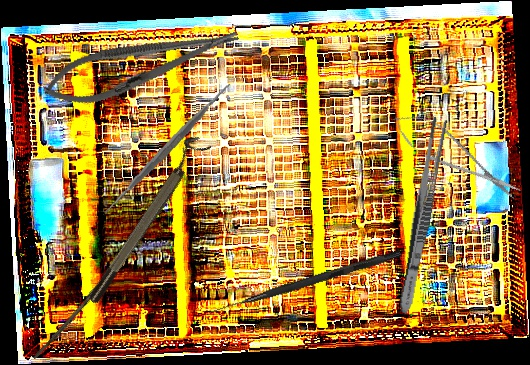Dressing Forceps: (394, 115, 450, 316)
Fixation Ring: (78, 131, 212, 307)
Hook Surgical: (208, 247, 402, 319)
Micro Scissor: (384, 101, 529, 212)
Needle Holder: (37, 12, 246, 117)
Spatula Surgical: (94, 74, 241, 222)
Surgical Spoon: (33, 254, 127, 362)
